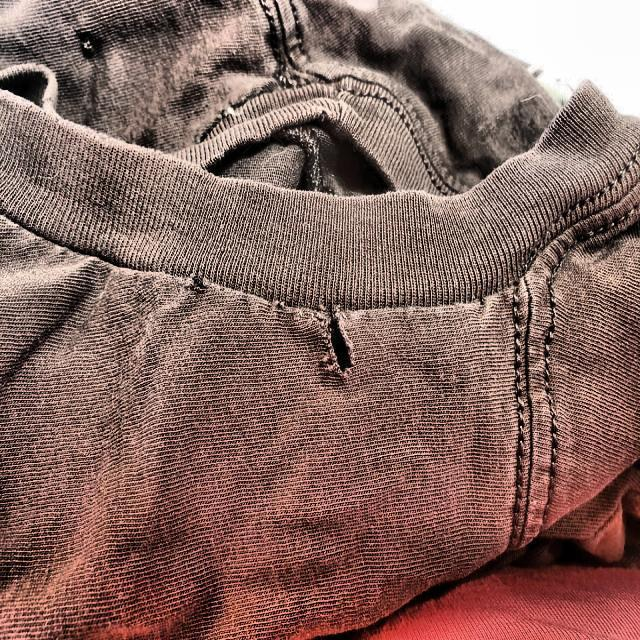cut: (312, 308, 363, 387)
